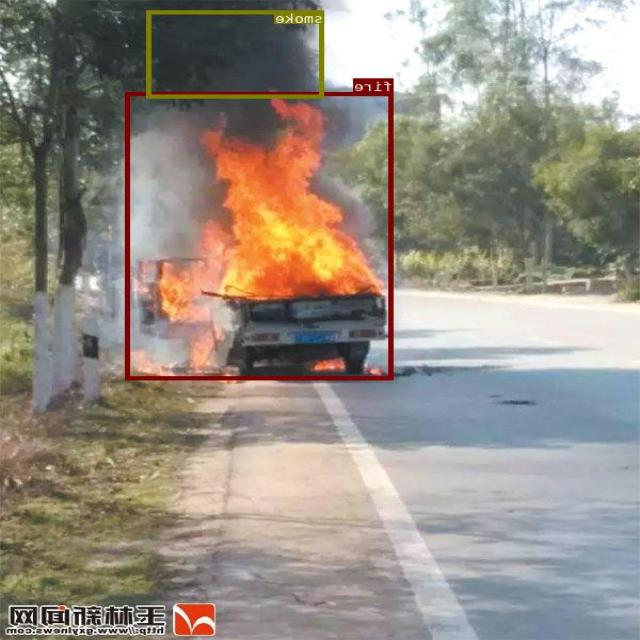fire: (127, 91, 394, 379)
smoke: (148, 9, 324, 98)
